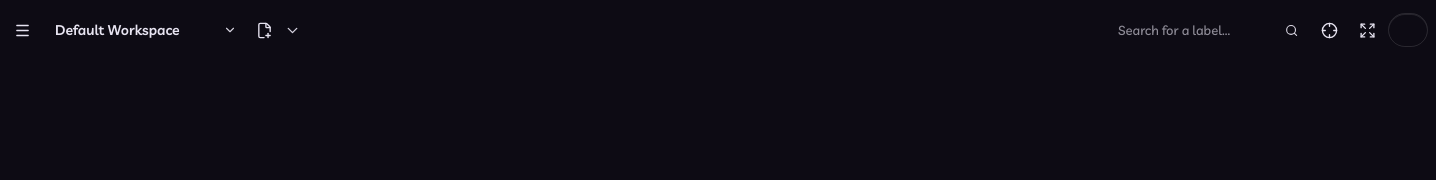
Scenario: TopBar › handles mousedown inside quick-menu-wrap without unmounting menu before click event
Note: Open quick menu
Step 1. Click the button named "add card" → (279, 30), box top-left (252, 12), bottom-right (306, 48)
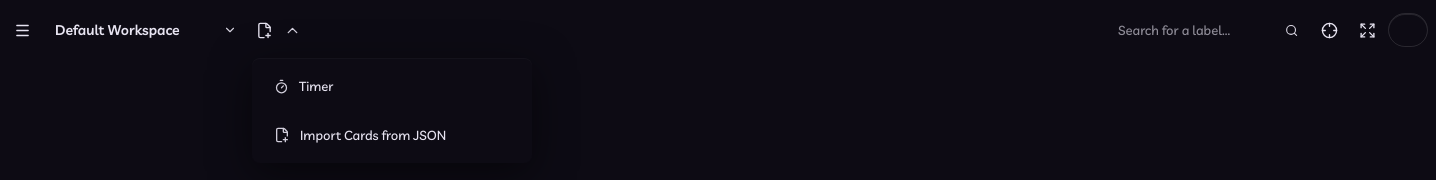
Note: Simulate mouse down on the option (previously would close menu before click)
Step 2. Press the mouse on the menu item "Timer" → (326, 86), box top-left (264, 70), bottom-right (388, 102)
Result: the menu named "add card menu" is shown at top-left (252, 58), bottom-right (532, 163)
Note: Simulate mouse click on the option
Step 3. Click the menu item "Timer" → (326, 86), box top-left (264, 70), bottom-right (388, 102)
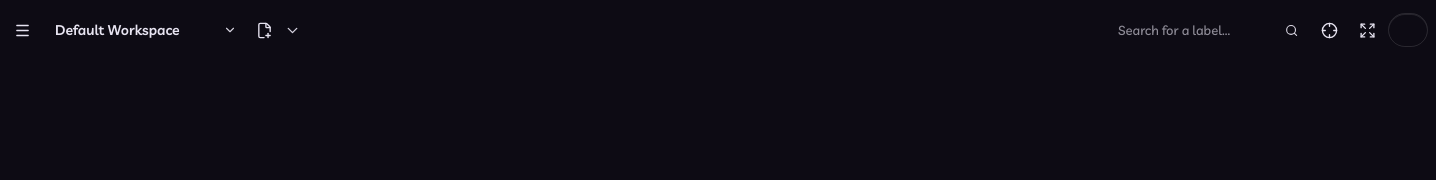
Result: the menu "Timer Import Cards from JSON" is gone
